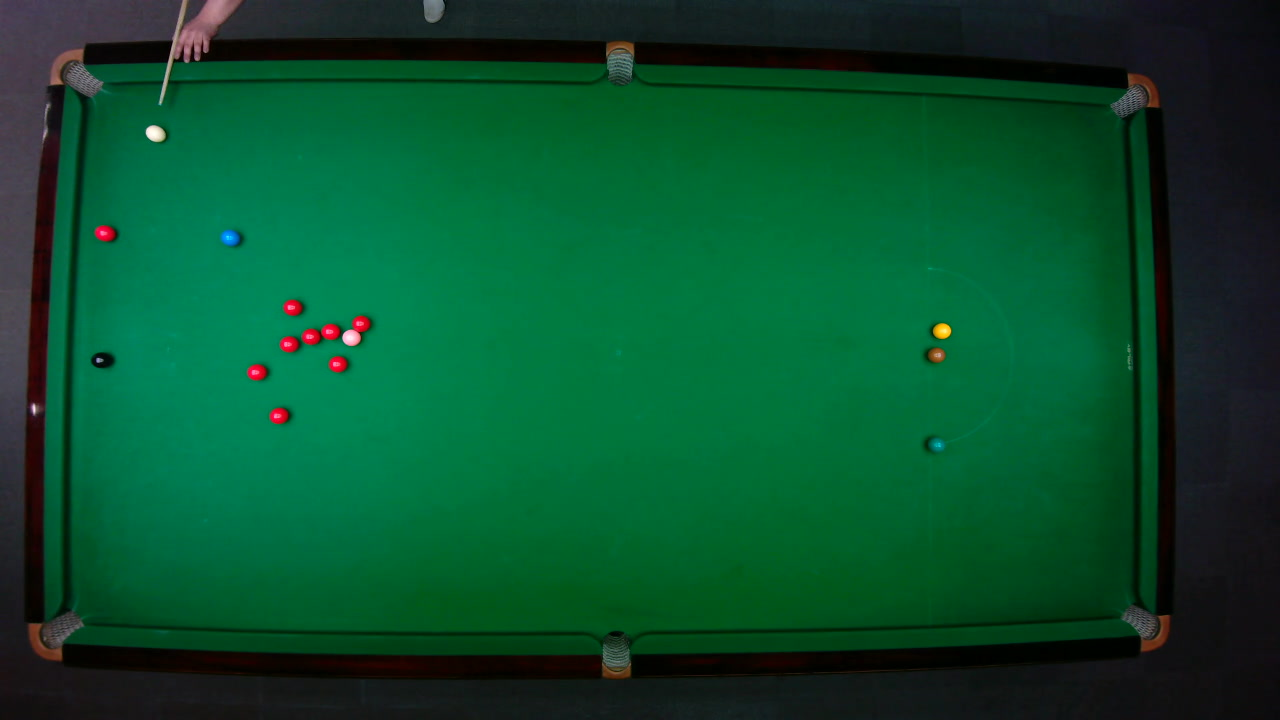bag: (26, 608, 84, 660), (48, 47, 104, 97), (1118, 602, 1170, 651), (1108, 72, 1160, 118), (601, 629, 630, 679), (605, 39, 633, 86)
black: (89, 351, 112, 368)
blue: (219, 228, 240, 246)
brown: (926, 346, 945, 363)
cue: (157, 0, 189, 104)
green: (925, 435, 945, 453)
pink: (340, 328, 362, 346)
red: (93, 223, 117, 242), (327, 354, 348, 373), (267, 406, 289, 424), (277, 334, 299, 352), (299, 327, 321, 345), (245, 362, 267, 380), (350, 314, 371, 332), (319, 322, 341, 339), (281, 298, 302, 315)
white: (143, 123, 167, 142)
yellow: (931, 321, 952, 338)
zone: (926, 265, 1013, 444)
